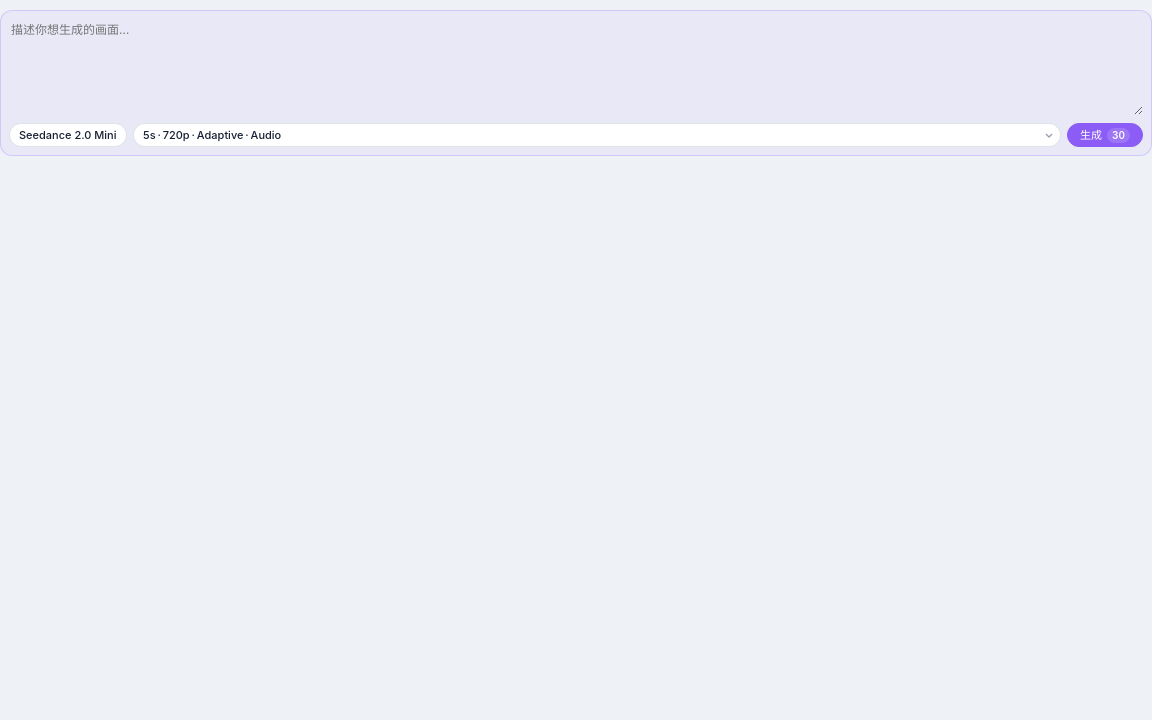
Test: PromptComposer with a model registry › shows the only model without a menu arrow
Expected: the dropdown named "model" shows "Seedance 2.0 Mini", left=9, top=123, right=127, bottom=147
Expected: the dropdown named "model" is disabled, left=9, top=123, right=127, bottom=147
Click the button with aria-label "参数" at (212, 135), box left=133, top=123, right=1061, bottom=147
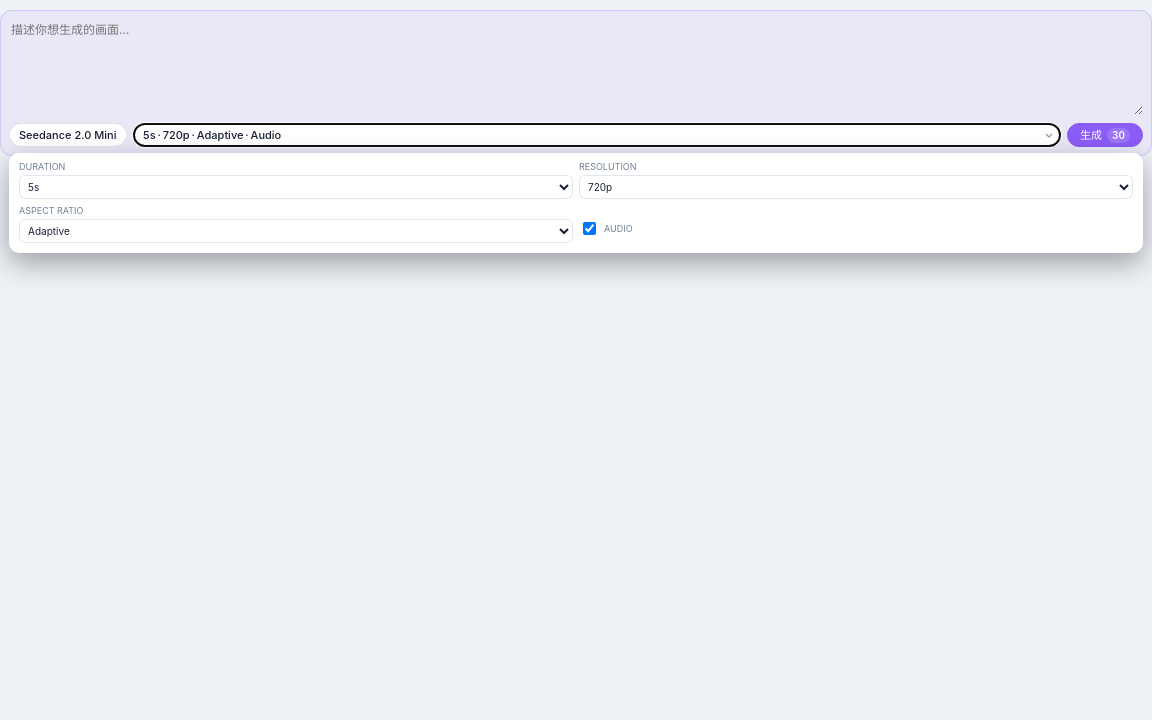
Result: the dropdown labelled "Duration" is shown at left=19, top=175, right=573, bottom=199
Press Escape
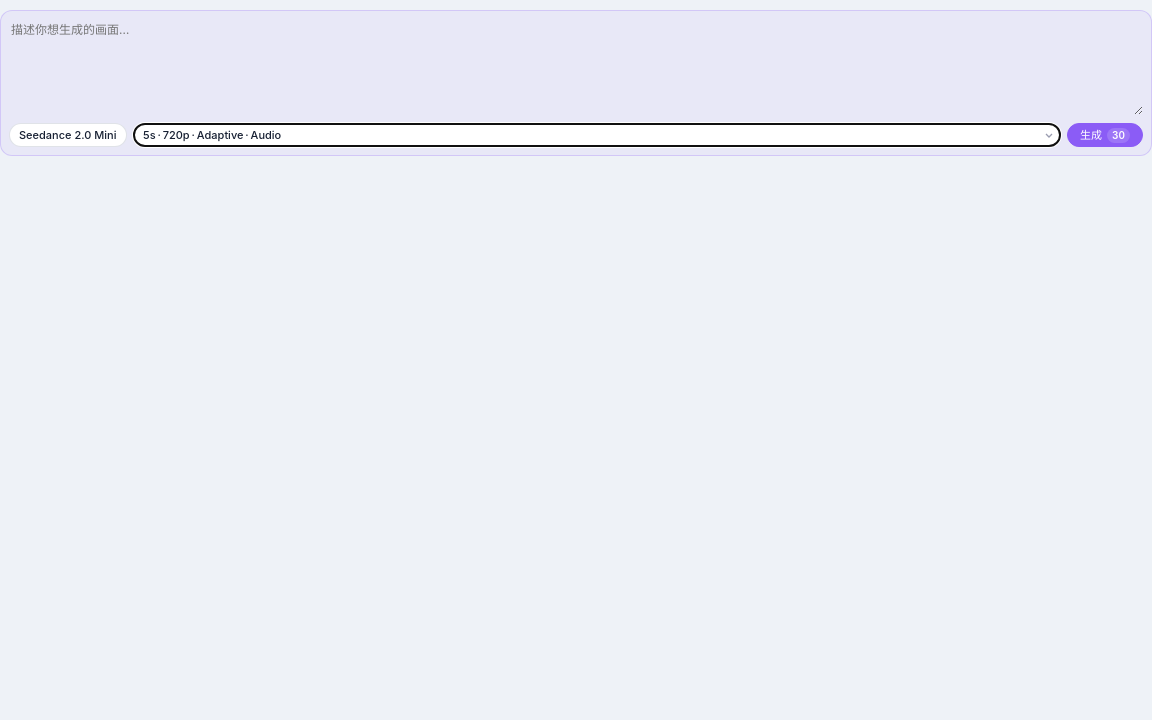
Result: the label labelled "Duration" is gone
